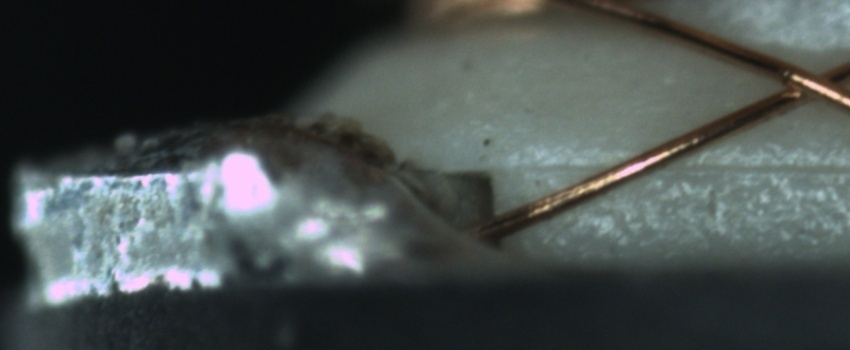CL: (758, 52, 850, 113)
DL: (521, 138, 849, 194)
